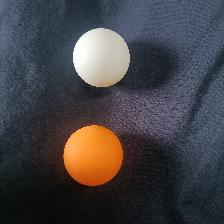WhiteBall: (71, 28, 130, 87)
YellowBall: (62, 125, 123, 186)
